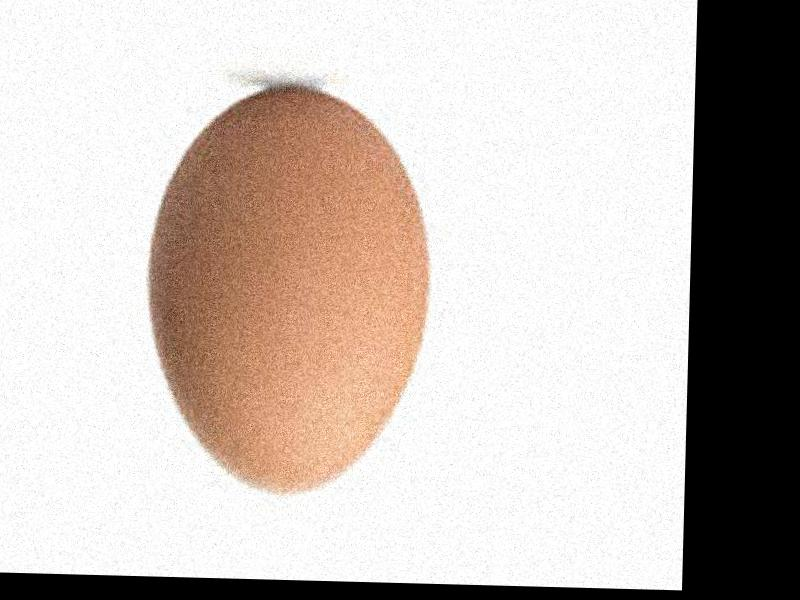Eggs: (144, 80, 431, 493)
